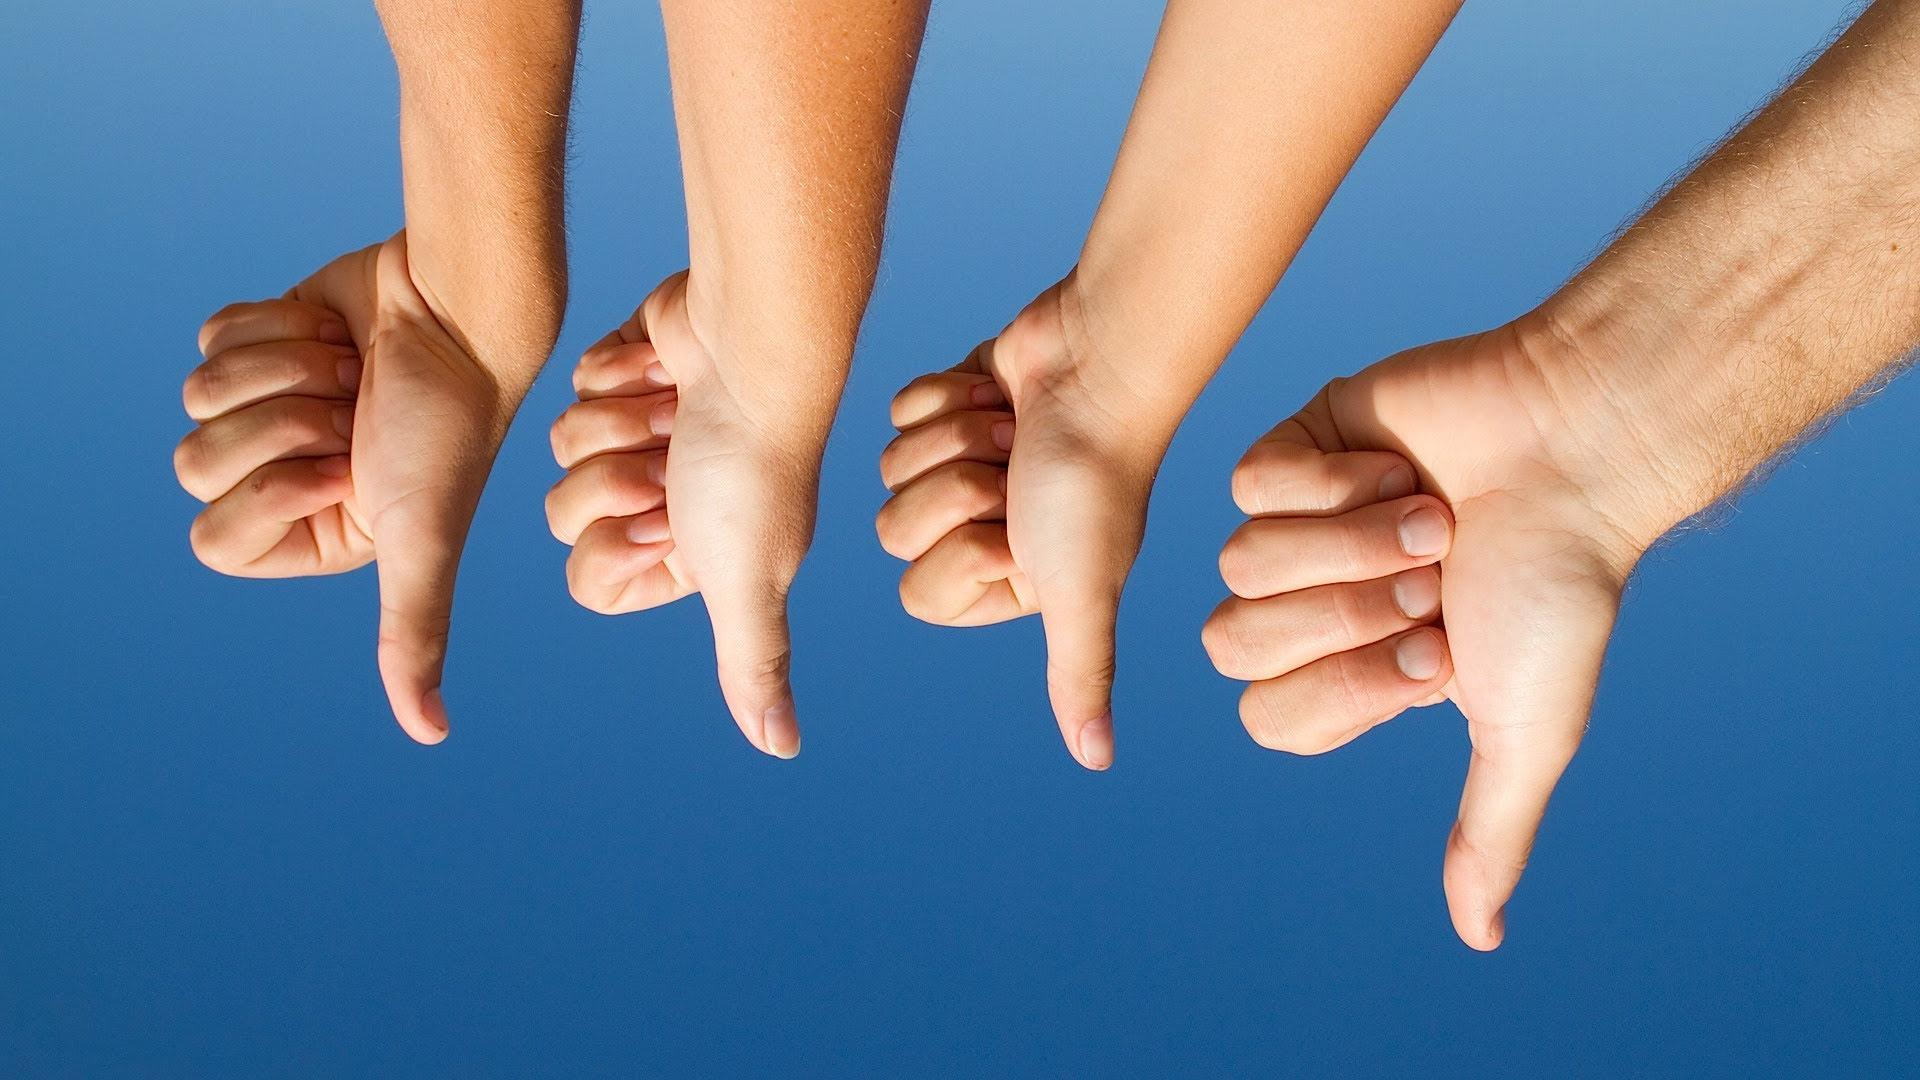thumbsdown: (1189, 343, 1553, 953), (167, 240, 464, 748), (538, 287, 815, 761), (874, 320, 1124, 777)
